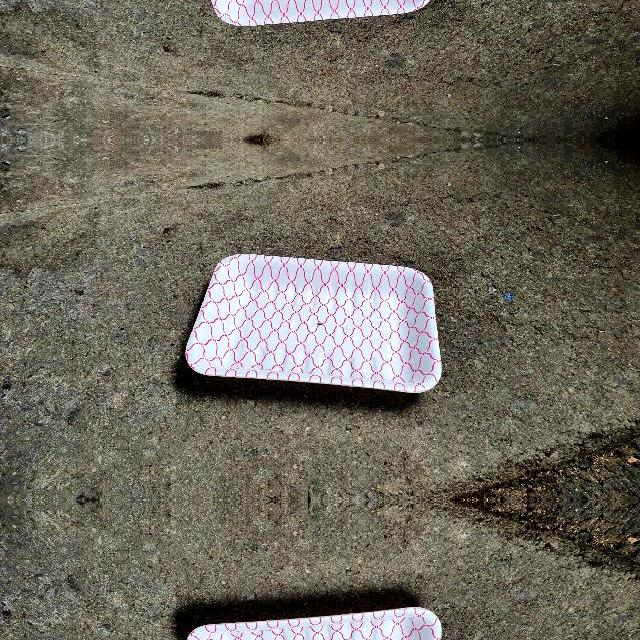Styrofoam: (184, 252, 444, 392), (186, 253, 442, 393), (184, 607, 444, 640)
